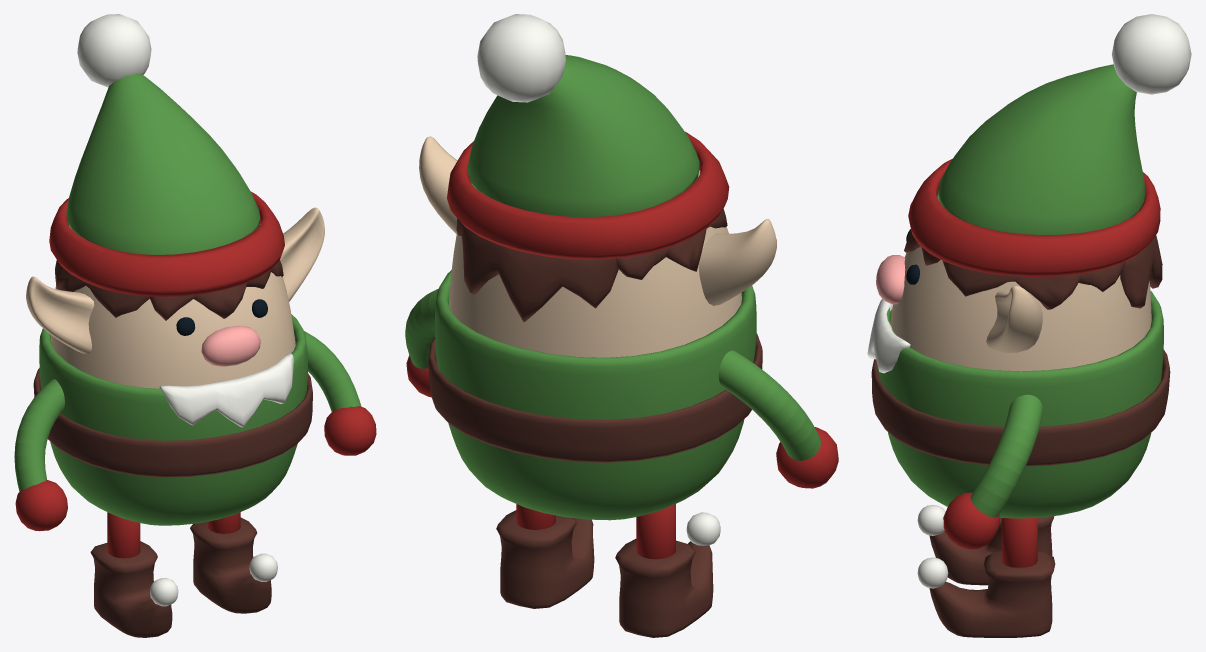
File: Lutin.fbx
3 views of the same model, side by side, from view 1: azimuth 30°, elevation 25°; view 2: azimuth 150°, elevation 25°; view 3: azimuth 270°, elevation 25° (orthographic). The views are drawn at different scales.
Parts seen in each view (by area): view 1: Cube.003, Cube.001, Cube, Cube.002, Cube.004, Cube.009, Cube.007, Cylinder.001, Cube.011, Cube.010, Cube.008, Cube.005 (+5 smaller); view 2: Cube.001, Cube.003, Cube, Cube.004, Cube.009, Cube.002, Cube.015, Cube.007, Cylinder.001, Cube.008, Cube.010, Cylinder (+2 smaller); view 3: Cube.003, Cube.001, Cube, Cube.002, Cube.009, Cube.004, Cube.008, Cylinder.001, Cube.014, Cube.007, Cube.010, Cube.015 (+4 smaller).
Part boxes in pixels (<box>): Cube.003: <box>66,73,260,254</box>; Cube.001: <box>39,314,307,525</box>; Cube: <box>51,224,295,388</box>; Cube.002: <box>49,191,284,296</box>; Cube.004: <box>90,517,271,637</box>; Cube.009: <box>33,368,312,477</box>; Cube.007: <box>26,207,324,353</box>; Cylinder.001: <box>14,331,360,491</box>; Cube.011: <box>159,352,293,427</box>; Cube.010: <box>15,406,376,531</box>; Cube.008: <box>77,14,151,87</box>; Cube.005: <box>201,325,260,366</box>; Cube.001: <box>435,270,756,520</box>; Cube.003: <box>467,55,699,217</box>; Cube: <box>449,170,741,357</box>; Cube.004: <box>496,510,713,637</box>; Cube.009: <box>428,333,762,462</box>; Cube.002: <box>447,131,729,259</box>; Cube.015: <box>461,223,618,322</box>; Cube.007: <box>419,136,776,305</box>; Cylinder.001: <box>405,289,820,460</box>; Cube.008: <box>477,14,565,102</box>; Cube.010: <box>406,355,838,488</box>; Cylinder: <box>516,504,675,559</box>; Cube.003: <box>938,64,1145,235</box>; Cube.001: <box>877,291,1163,518</box>; Cube: <box>890,195,1151,371</box>; Cube.002: <box>908,159,1160,276</box>; Cube.009: <box>871,349,1170,466</box>; Cube.004: <box>929,516,1055,637</box>; Cube.008: <box>1111,14,1191,94</box>; Cylinder.001: <box>970,394,1042,517</box>; Cube.014: <box>942,261,1125,309</box>; Cube.007: <box>986,286,1042,352</box>; Cube.010: <box>943,492,999,549</box>; Cube.015: <box>1120,235,1162,308</box>.
Size of the model in its own units: 298 by 435 by 219.
